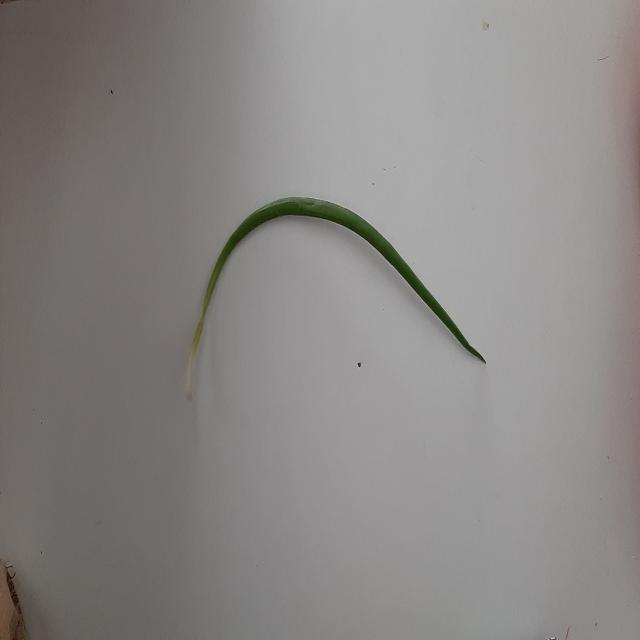onion: (184, 198, 485, 396)
